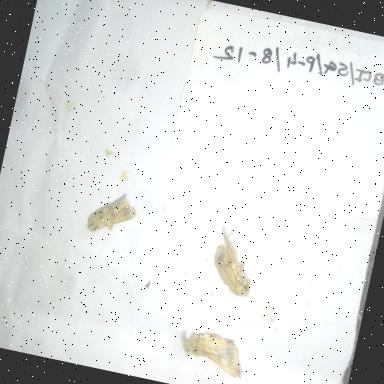abw: (201, 217, 267, 305), (169, 321, 254, 384), (80, 181, 144, 243)
